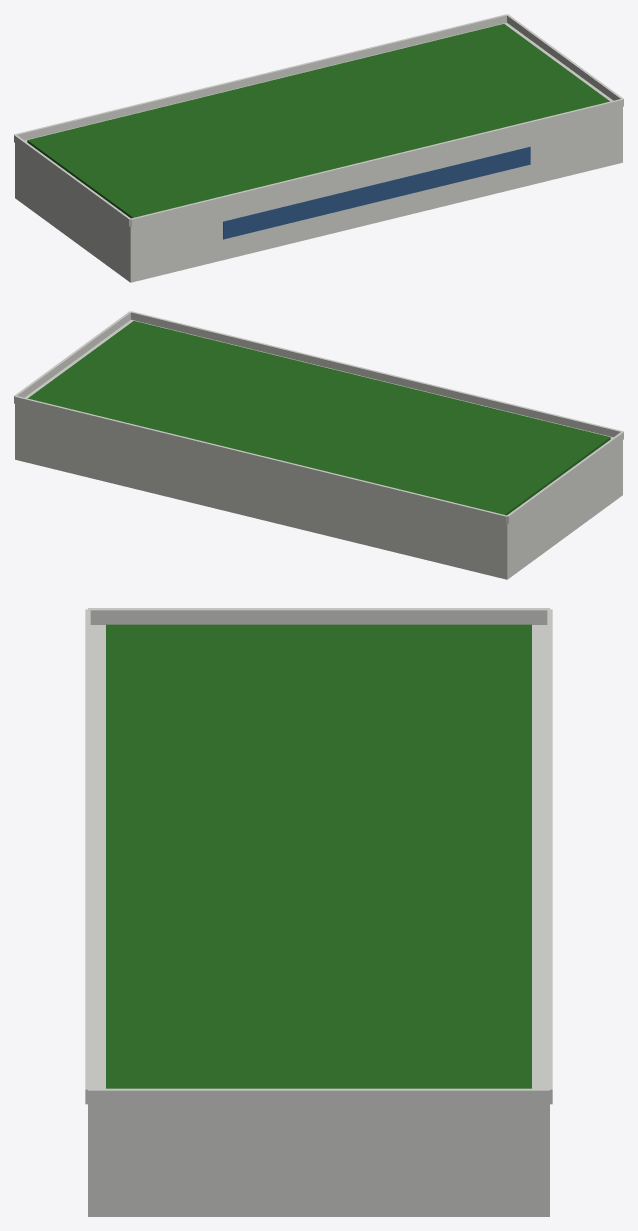
File: EdificioTechoVerde.obj
The picture shows the model from 3 angles, top to bottom: view 1: azimuth 30°, elevation 25°; view 2: azimuth 150°, elevation 25°; view 3: azimuth 270°, elevation 25°; orthographic projection. The views are drawn at different scales.
Visible parts, largest first — view 1: EdificioTechoVerde; view 2: EdificioTechoVerde; view 3: EdificioTechoVerde.
Part boxes in pixels (x1,y1,x2,y2): EdificioTechoVerde: (14,14,623,282); EdificioTechoVerde: (14,311,623,579); EdificioTechoVerde: (85,608,552,1216).
Size of the model in its own units: 64.3 by 7.9 by 26.3.
